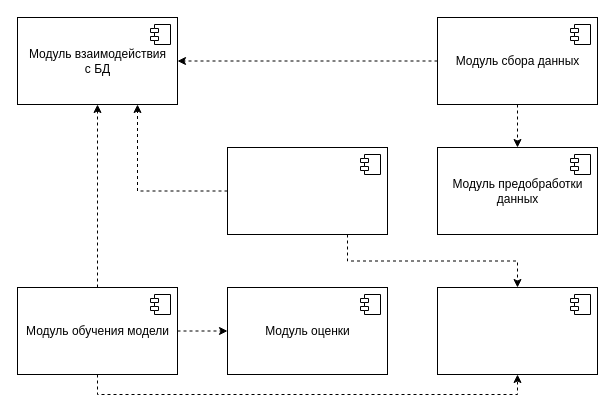
Some shapes in this 615 by 420 pixel diagram are drawn without their labels. Each missing label, with the centre of its shape:
"Модуль векторизации текста" belongs at [517,330].
"Модуль предсказания количества лайков у статьи" belongs at [307,190].
